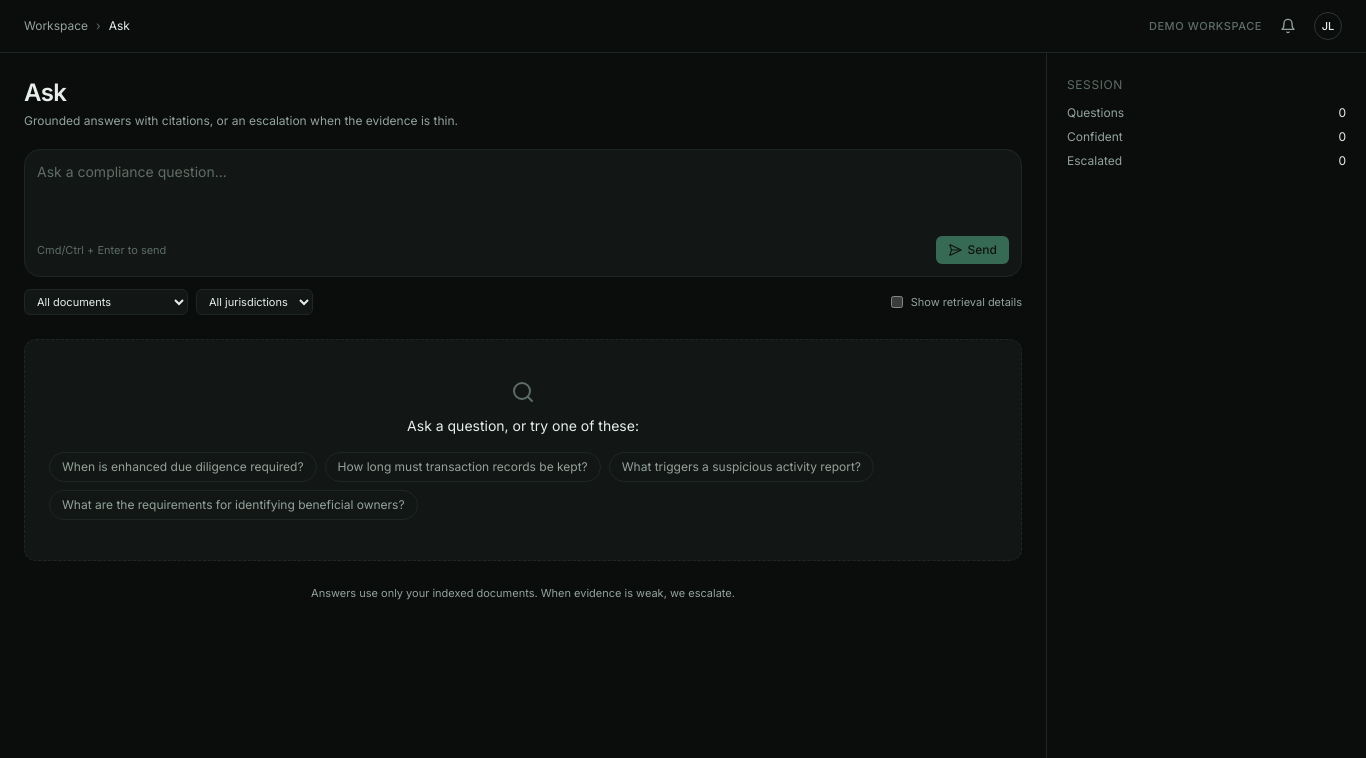
Scenario: AskPage › renders the confident answer with a citation chip
Type "When is enhanced due diligence required?" into the text box labelled "Ask a compliance question..." at (523, 192), box [37,162,1009,222]
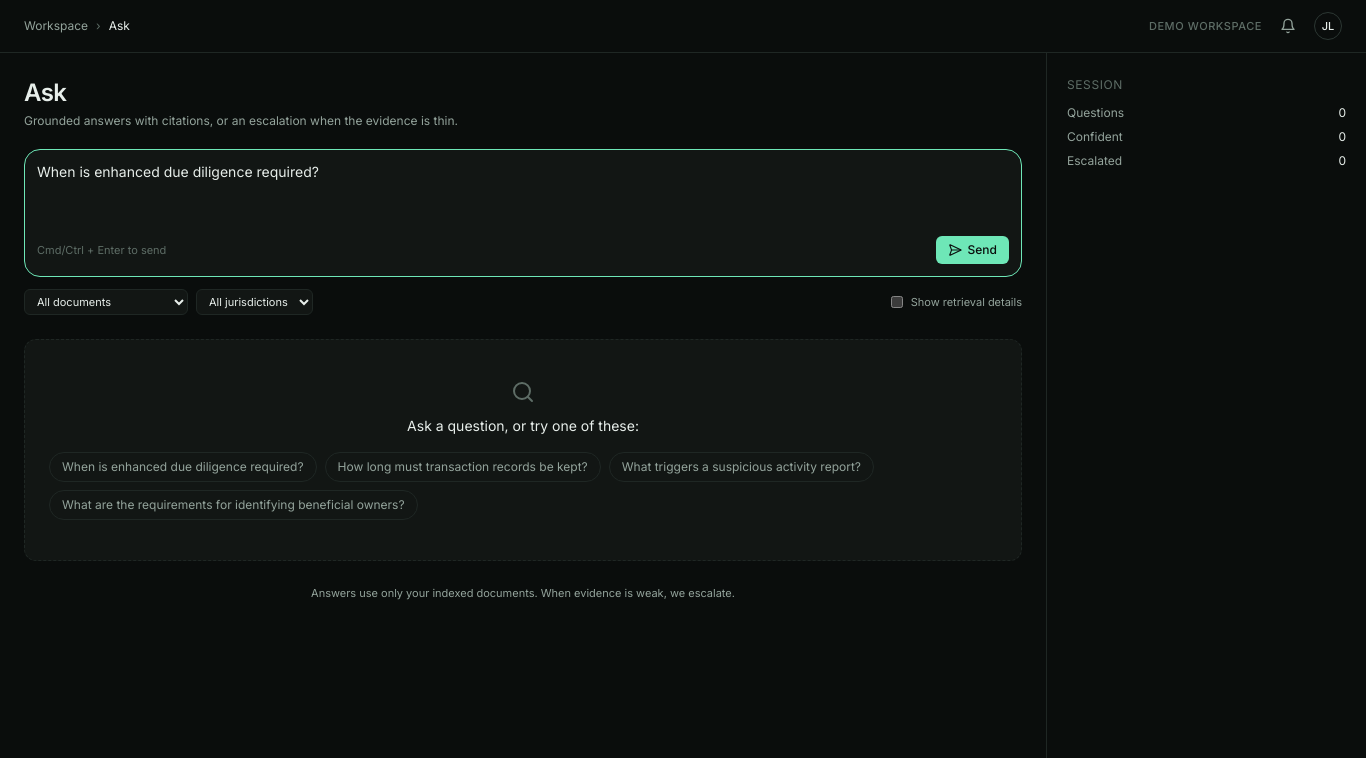
Click the button with aria-label "send question" at (972, 250), box [936,236,1009,264]
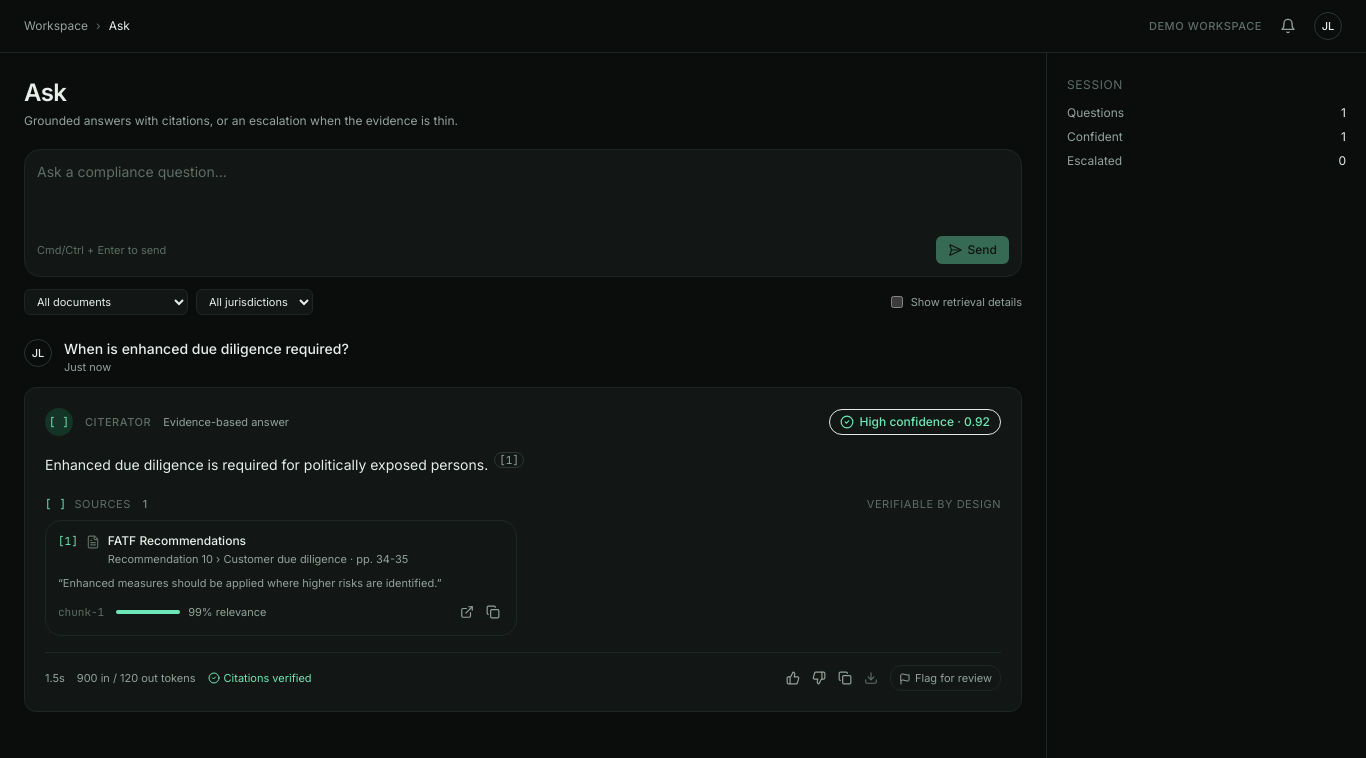
Expected: the text "Enhanced due diligence is required" is shown, [45,456,492,473]
Expected: the button named "open source 1" is shown, [494,452,524,468]
